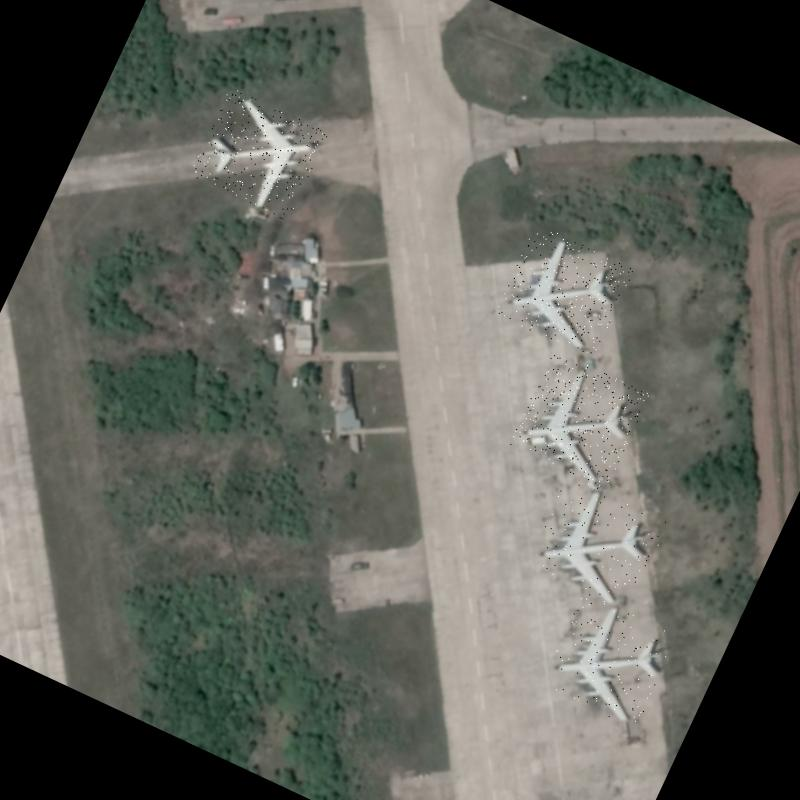A17: (525, 473, 669, 612), (508, 349, 650, 489), (540, 589, 680, 729), (493, 222, 634, 360), (188, 86, 328, 222)
